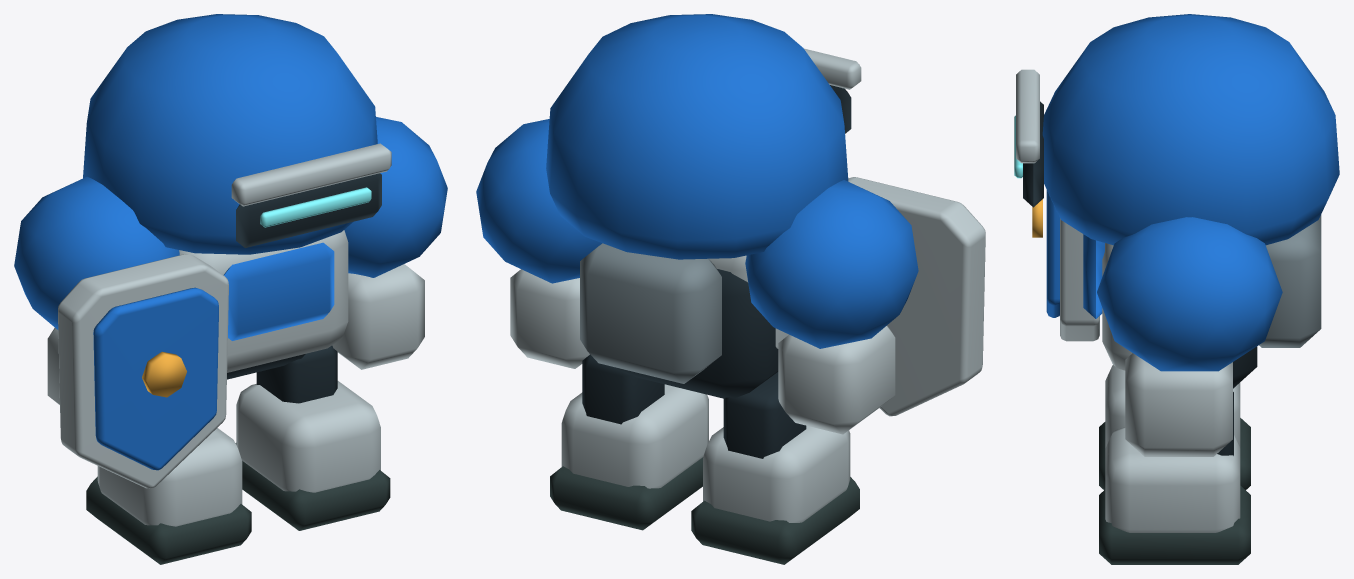
The model's file is allied-trooper.glb.
3 views of the same model, side by side, from view 1: azimuth 30°, elevation 25°; view 2: azimuth 150°, elevation 25°; view 3: azimuth 270°, elevation 25° (orthographic).
Visible parts, largest first — view 1: allied-trooper_TEAM_BLUE, allied-trooper_ARMOR_METAL_VERTEX_COLOR, allied-trooper_TOY_BODY_VERTEX_COLOR; view 2: allied-trooper_TEAM_BLUE, allied-trooper_ARMOR_METAL_VERTEX_COLOR, allied-trooper_TOY_BODY_VERTEX_COLOR; view 3: allied-trooper_TEAM_BLUE, allied-trooper_ARMOR_METAL_VERTEX_COLOR, allied-trooper_TOY_BODY_VERTEX_COLOR.
Part boxes in pixels (x1,y1,x2,y2): allied-trooper_TEAM_BLUE: [14, 14, 447, 470]; allied-trooper_ARMOR_METAL_VERTEX_COLOR: [47, 143, 424, 526]; allied-trooper_TOY_BODY_VERTEX_COLOR: [86, 173, 390, 564]; allied-trooper_TEAM_BLUE: [476, 14, 918, 348]; allied-trooper_ARMOR_METAL_VERTEX_COLOR: [510, 48, 985, 522]; allied-trooper_TOY_BODY_VERTEX_COLOR: [550, 85, 859, 564]; allied-trooper_TEAM_BLUE: [1042, 14, 1339, 371]; allied-trooper_ARMOR_METAL_VERTEX_COLOR: [1016, 69, 1321, 532]; allied-trooper_TOY_BODY_VERTEX_COLOR: [1014, 101, 1257, 564].
Bounding box in the file's own units: 1.16 × 1.25 × 0.7705.
